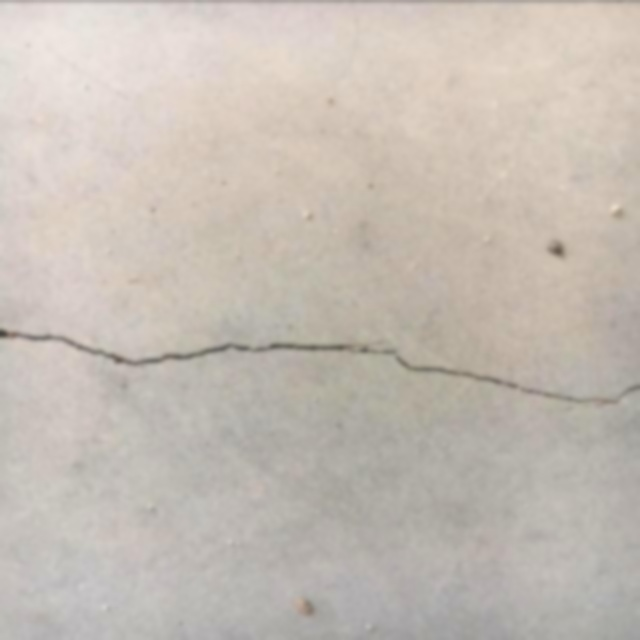SurfaceCrack: (1, 284, 640, 445)
